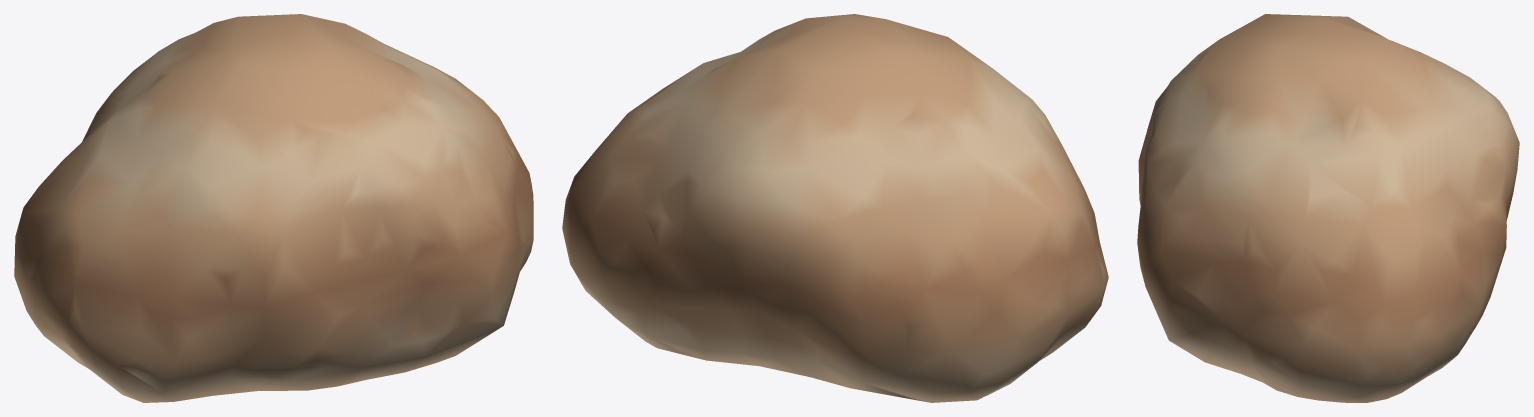
Rendered from rocha.glb.
3 views of the same model, side by side, from view 1: azimuth 30°, elevation 25°; view 2: azimuth 150°, elevation 25°; view 3: azimuth 270°, elevation 25° (orthographic). The views are drawn at different scales.
Parts seen in each view (by area): view 1: Rocha; view 2: Rocha; view 3: Rocha.
Boxes of the visible parts, x1,y1,x2,y2 form: Rocha: [14, 14, 533, 402]; Rocha: [562, 14, 1108, 402]; Rocha: [1137, 14, 1519, 402].
Size of the model in its own units: 4.6 by 2.68 by 3.37.
